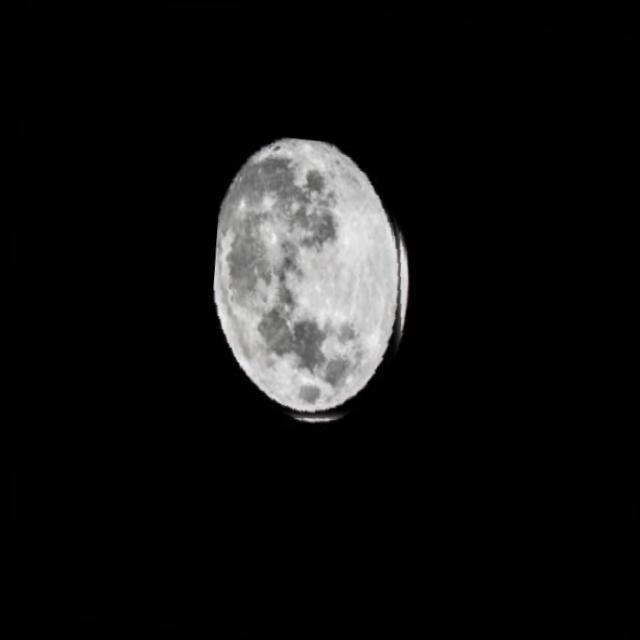moon: (198, 130, 424, 436)
